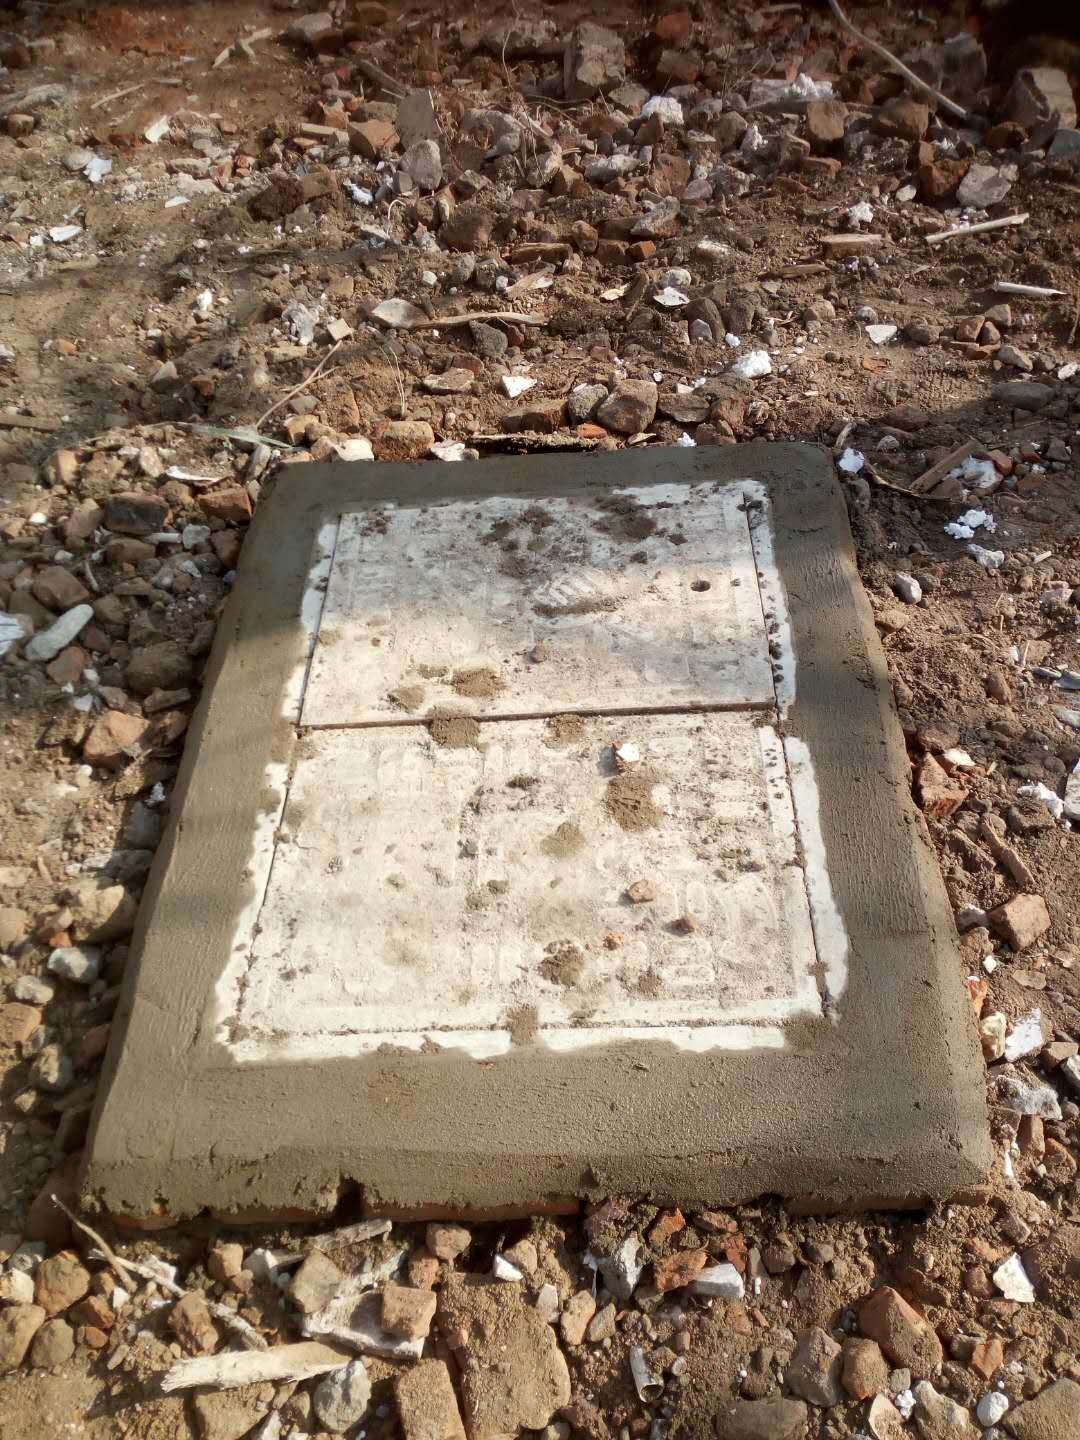good: (208, 477, 857, 1054)
